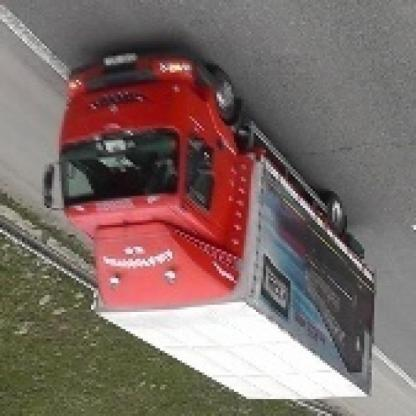truck: (46, 44, 378, 410)
